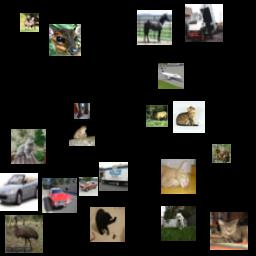airplane: (158, 63, 184, 89)
automobile: (0, 173, 38, 211), (42, 178, 77, 213), (79, 177, 98, 196)
bird: (5, 215, 43, 253)
cat: (210, 212, 248, 250), (161, 159, 196, 194), (90, 207, 125, 242), (11, 129, 46, 164), (173, 101, 205, 133), (74, 103, 90, 119)
deer: (49, 24, 81, 56), (146, 105, 168, 127)
dog: (161, 206, 196, 241)
frog: (69, 120, 95, 146), (212, 144, 231, 163)
truck: (185, 4, 223, 42), (99, 162, 128, 191)
